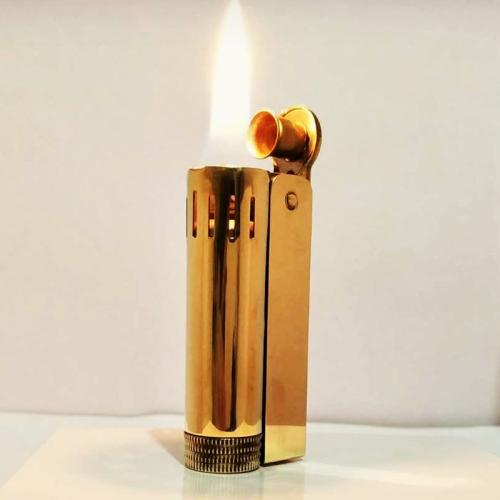fire: (200, 1, 271, 189)
